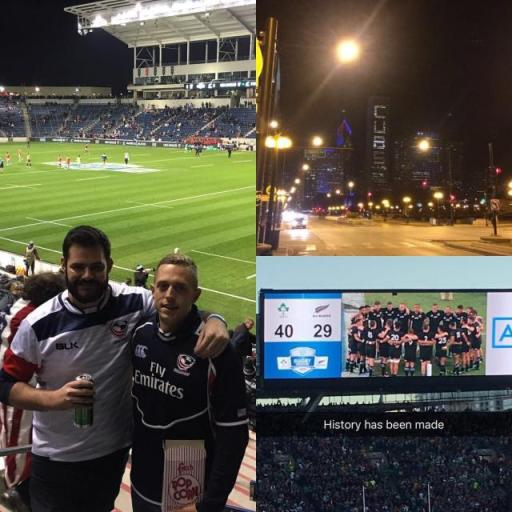Emirates: (130, 360, 186, 400)
